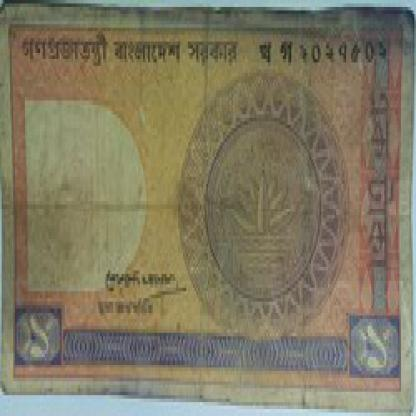One Taka: (366, 83, 399, 281), (350, 315, 400, 378), (15, 309, 62, 364)
